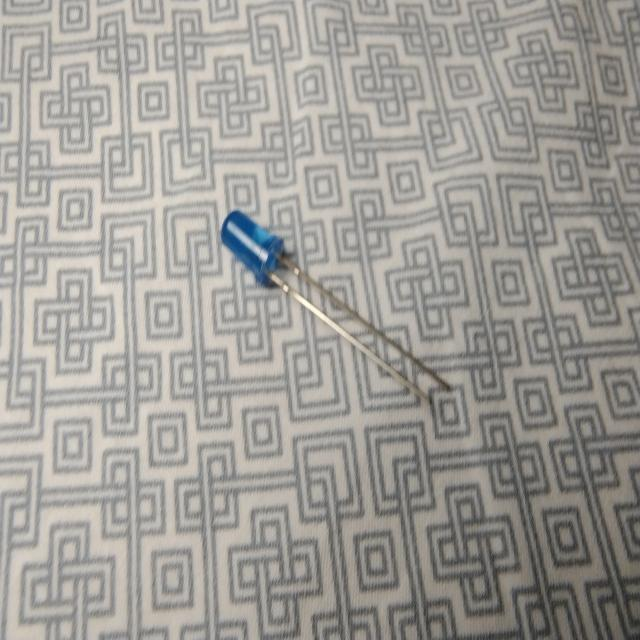blue_led: (219, 208, 452, 406)
